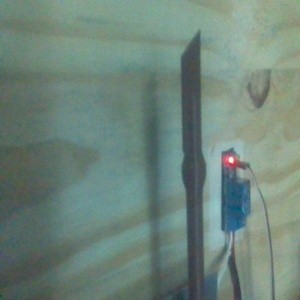cutter: (179, 27, 208, 300)
